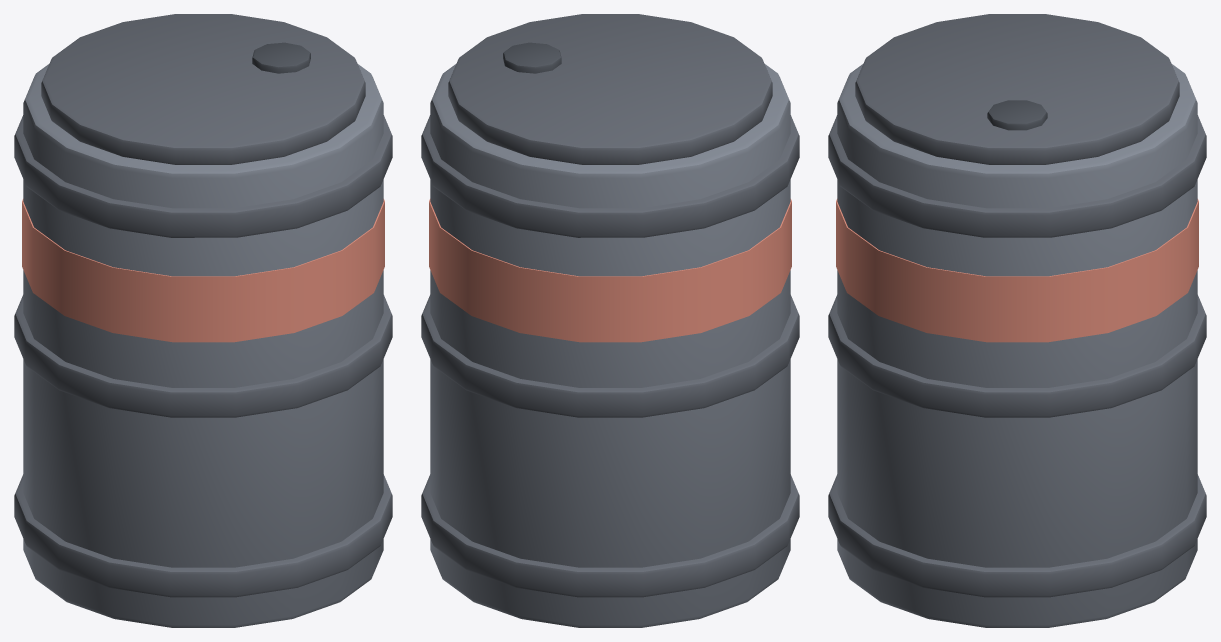
File: prop_barrel.glb
3 renders of one model, left to right at view 1: azimuth 30°, elevation 25°; view 2: azimuth 150°, elevation 25°; view 3: azimuth 270°, elevation 25°, orthographic.
Visible parts, largest first — view 1: prop_barrel_v2; view 2: prop_barrel_v2; view 3: prop_barrel_v2.
Part boxes in pixels (left/top/right/bottom): prop_barrel_v2: left=14, top=14, right=392, bottom=627; prop_barrel_v2: left=421, top=14, right=799, bottom=627; prop_barrel_v2: left=828, top=14, right=1206, bottom=627.
Bounding box in the file's own units: 0.6204 × 0.885 × 0.63.
